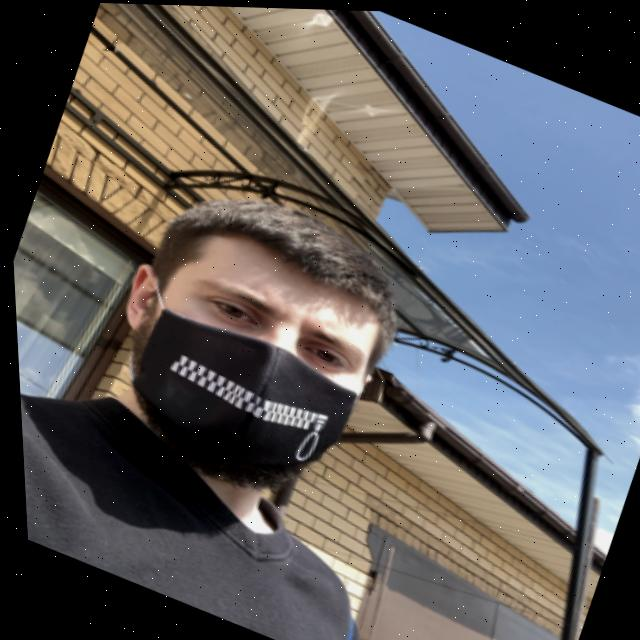Mask: (65, 258, 381, 510)
